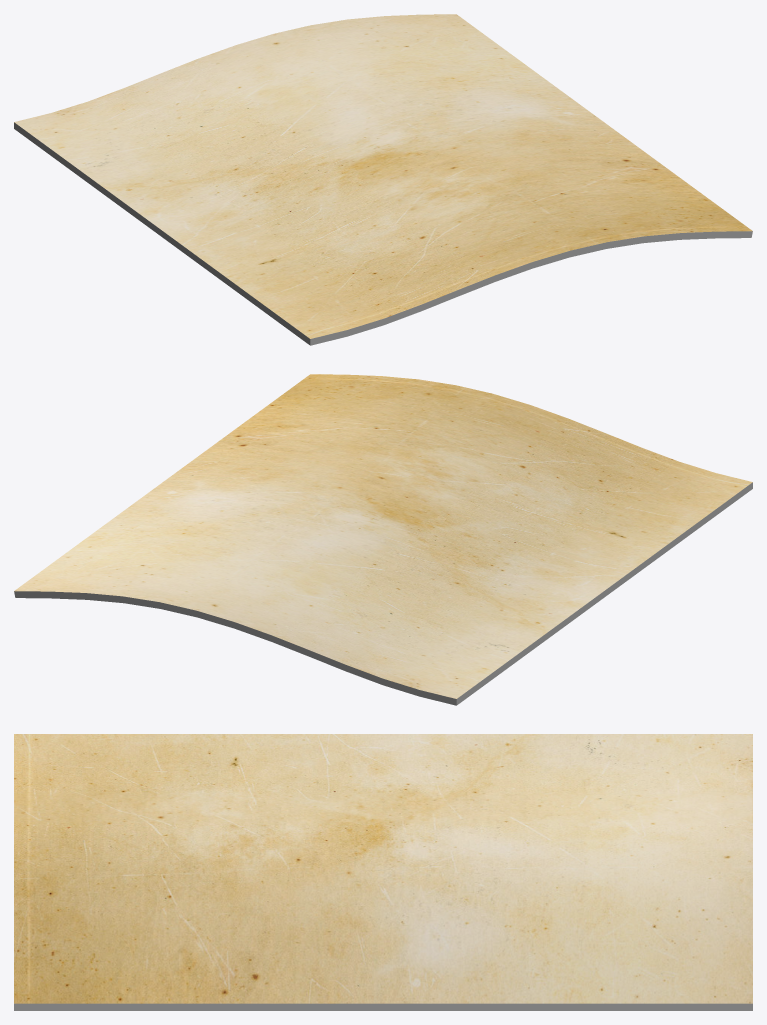
The model's file is book_flip_002.fbx.
3 renders of one model, top to bottom at view 1: azimuth 30°, elevation 25°; view 2: azimuth 150°, elevation 25°; view 3: azimuth 270°, elevation 25°, orthographic. The views are drawn at different scales.
Visible parts, largest first — view 1: book_GEO; view 2: book_GEO; view 3: book_GEO.
Part boxes in pixels (x1,y1,x2,y2): book_GEO: (14, 14, 752, 345); book_GEO: (14, 374, 752, 705); book_GEO: (14, 734, 752, 1010).
Bounding box in the file's own units: 12.52 × 0.8554 × 14.52.
3 materials, 2 textured.
